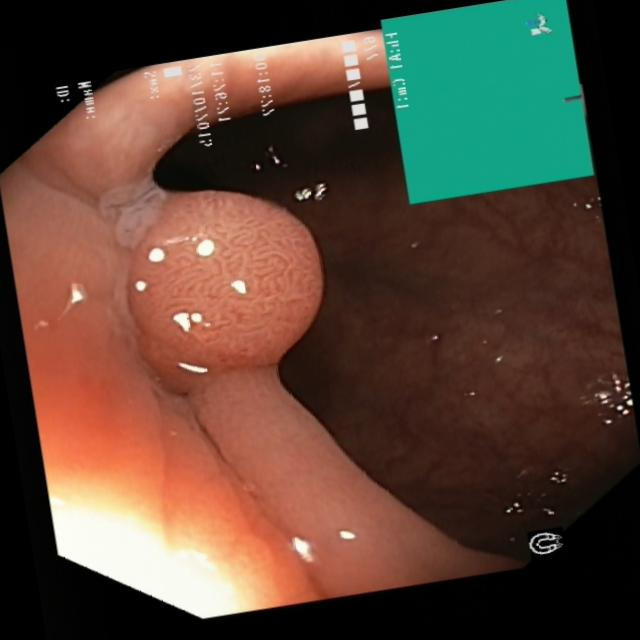Polyps: (103, 176, 331, 405)
